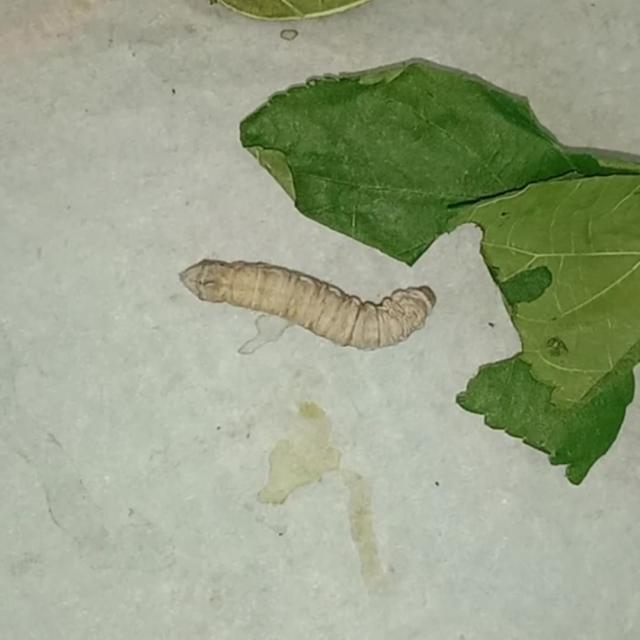Grasserie: (173, 237, 443, 362)
